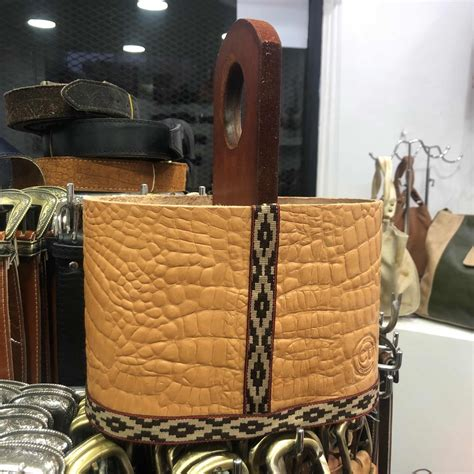cuero: (81, 189, 381, 422)
